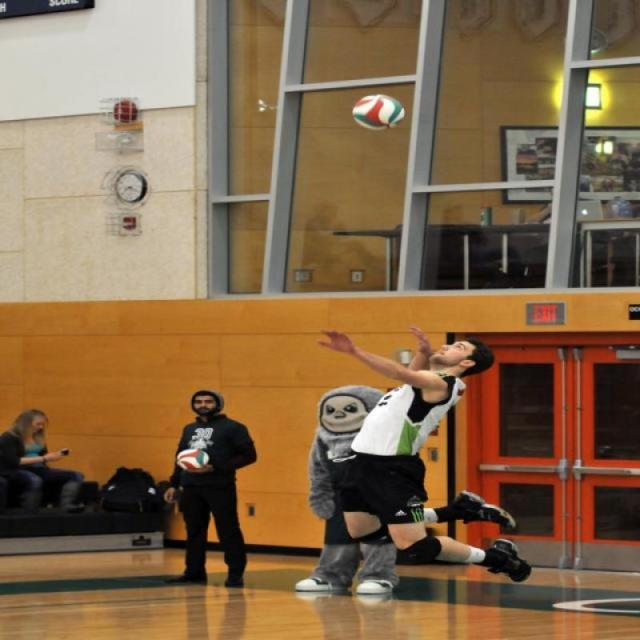volleyball: (349, 93, 406, 131), (173, 446, 210, 469)
